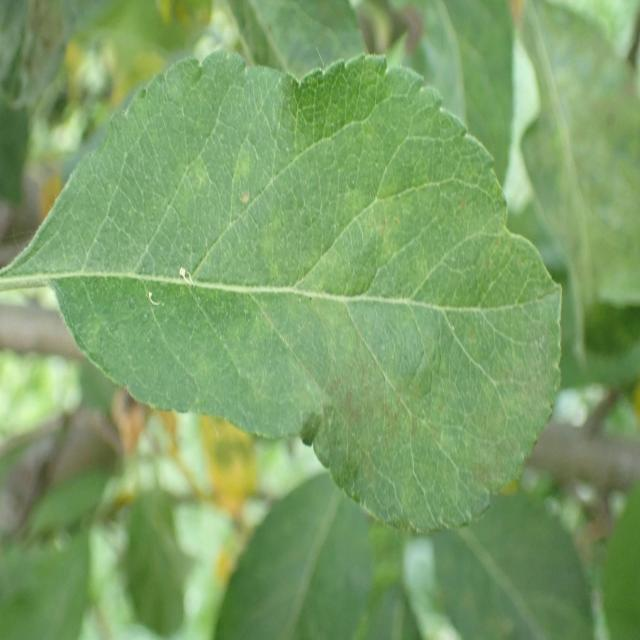scab: (76, 113, 564, 501)
